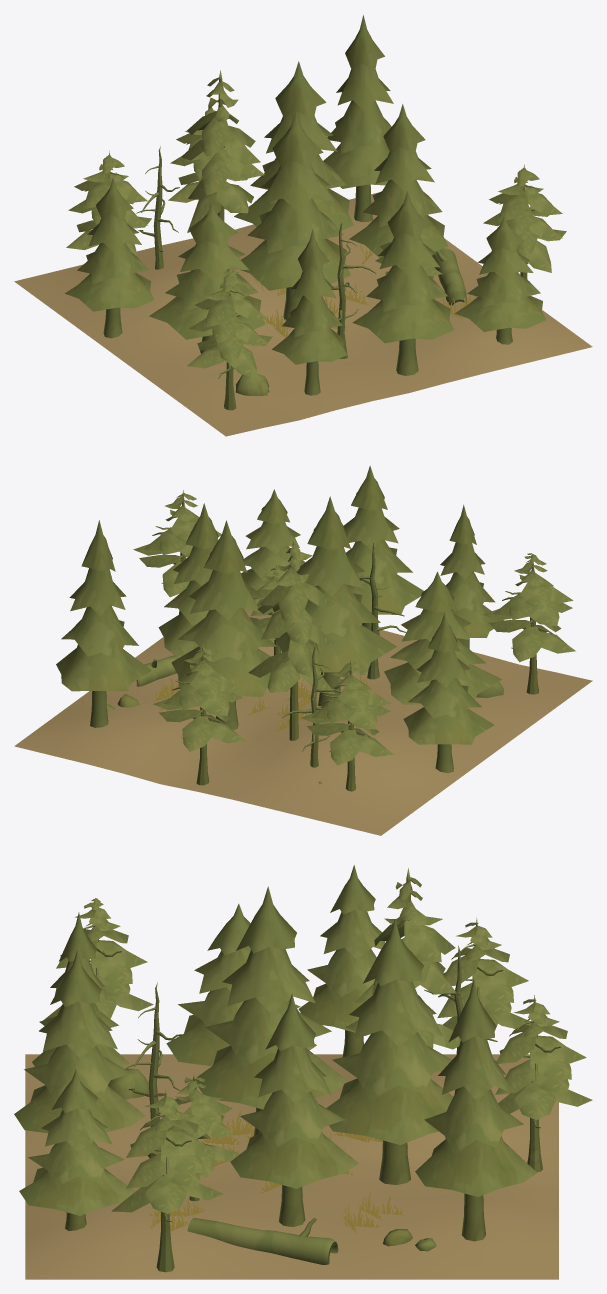
The model's file is ForestTile2.fbx.
3 views of the same model, one above another, from view 1: azimuth 30°, elevation 25°; view 2: azimuth 150°, elevation 25°; view 3: azimuth 270°, elevation 25° (orthographic). The views are drawn at different scales.
Visible parts, largest first — view 1: ForestTile2; view 2: ForestTile2; view 3: ForestTile2.
Boxes of the visible parts, box(x1,y1,x2,y2) form: ForestTile2: box(14, 15, 592, 436); ForestTile2: box(14, 465, 592, 835); ForestTile2: box(14, 865, 592, 1279).
Size of the model in its own units: 114 by 62.17 by 108.
